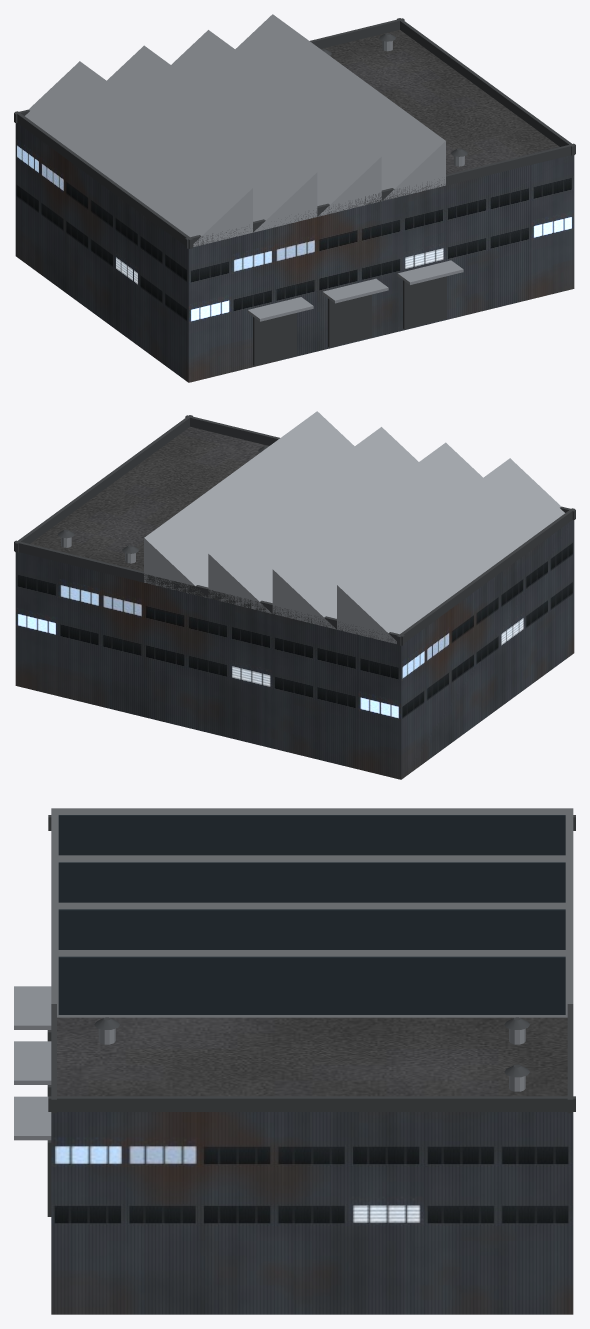
The model's file is building_08.glb.
The picture shows the model from 3 angles, top to bottom: view 1: azimuth 30°, elevation 25°; view 2: azimuth 150°, elevation 25°; view 3: azimuth 270°, elevation 25°; orthographic projection. The views are drawn at different scales.
Visible parts, largest first — view 1: Render; view 2: Render; view 3: Render.
Part boxes in pixels (<box>): Render: <box>14,14,575,382</box>; Render: <box>14,411,575,779</box>; Render: <box>14,808,575,1314</box>.
Size of the model in its own units: 36.3 by 16 by 30.15.
6 materials, 2 textured.
